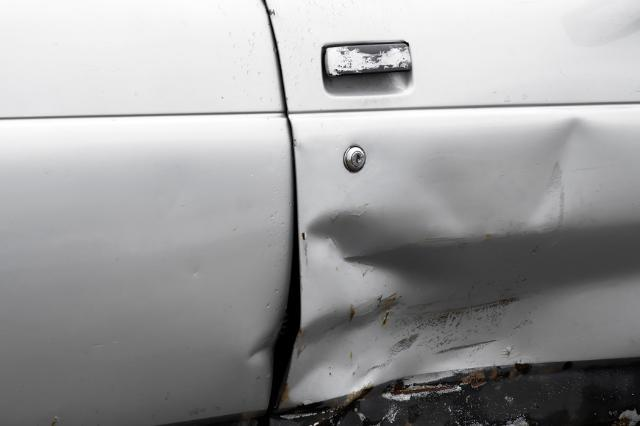Door: (272, 0, 640, 418)
